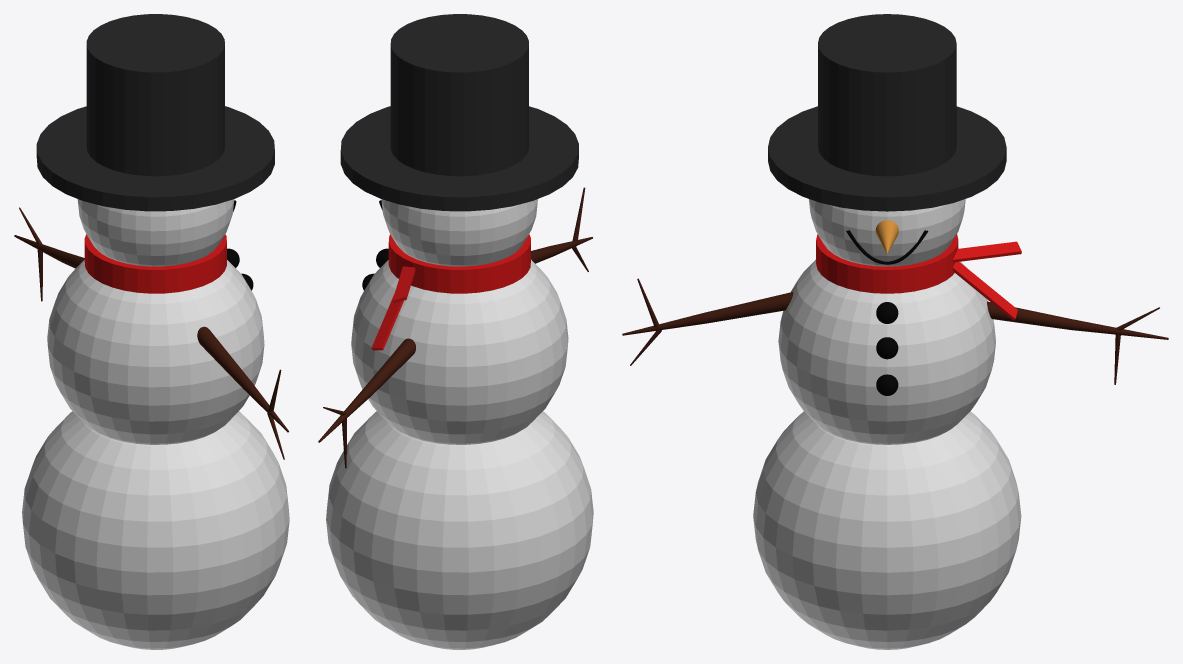
The model's file is snwmnnn.fbx.
3 views of the same model, side by side, from view 1: azimuth 30°, elevation 25°; view 2: azimuth 150°, elevation 25°; view 3: azimuth 270°, elevation 25° (orthographic).
Visible parts, largest first — view 1: Sphere, Cylinder, Sphere.001, Sphere.002, Cylinder.007, Cylinder.005; view 2: Sphere, Cylinder, Sphere.001, Sphere.002, Cylinder.007, Cylinder.005; view 3: Sphere, Cylinder, Sphere.001, Sphere.002, Cylinder.007, Cylinder.005, Sphere.003.
Boxes of the visible parts, left/top/right/bottom form: Sphere: left=22, top=411, right=289, bottom=649; Cylinder: left=36, top=14, right=274, bottom=211; Sphere.001: left=47, top=260, right=264, bottom=444; Sphere.002: left=77, top=199, right=234, bottom=266; Cylinder.007: left=84, top=234, right=226, bottom=293; Cylinder.005: left=14, top=207, right=288, bottom=459; Sphere: left=326, top=411, right=593, bottom=649; Cylinder: left=340, top=14, right=578, bottom=211; Sphere.001: left=351, top=259, right=568, bottom=444; Sphere.002: left=381, top=199, right=537, bottom=266; Cylinder.007: left=371, top=234, right=530, bottom=350; Cylinder.005: left=318, top=187, right=592, bottom=468; Sphere: left=753, top=411, right=1021, bottom=649; Cylinder: left=768, top=14, right=1006, bottom=211; Sphere.001: left=778, top=259, right=995, bottom=444; Sphere.002: left=809, top=199, right=965, bottom=266; Cylinder.007: left=816, top=234, right=1021, bottom=320; Cylinder.005: left=622, top=278, right=1168, bottom=384; Sphere.003: left=876, top=302, right=898, bottom=395.
Bounding box in the file's own units: 4.83 × 11.81 × 9.84.
